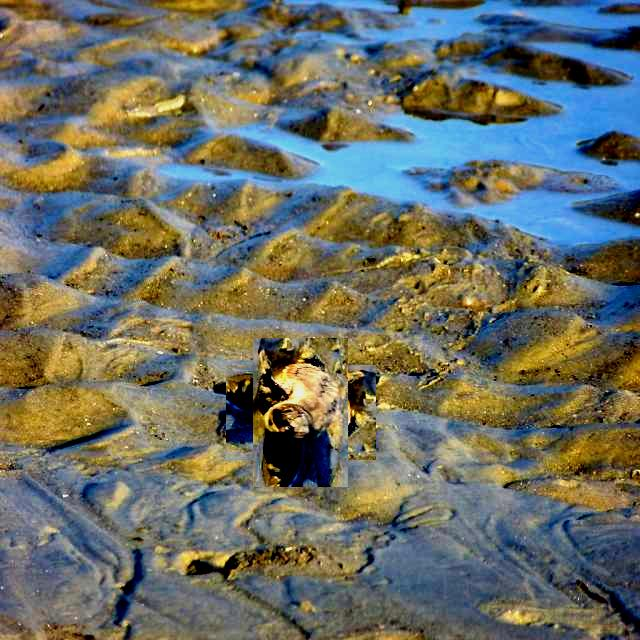Sea turtle: (240, 351, 362, 474)
